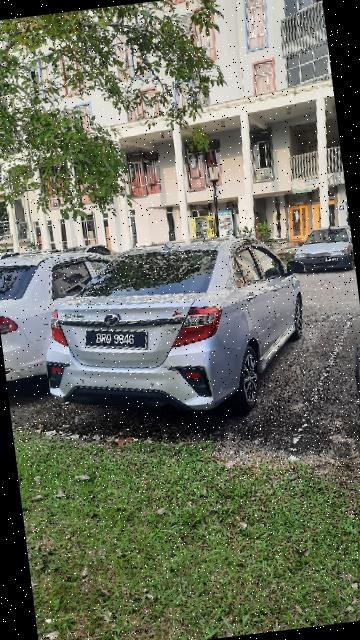License_Plate: (82, 320, 156, 362), (324, 256, 342, 264)
car: (19, 222, 326, 441), (1, 241, 130, 383), (289, 220, 356, 278)
